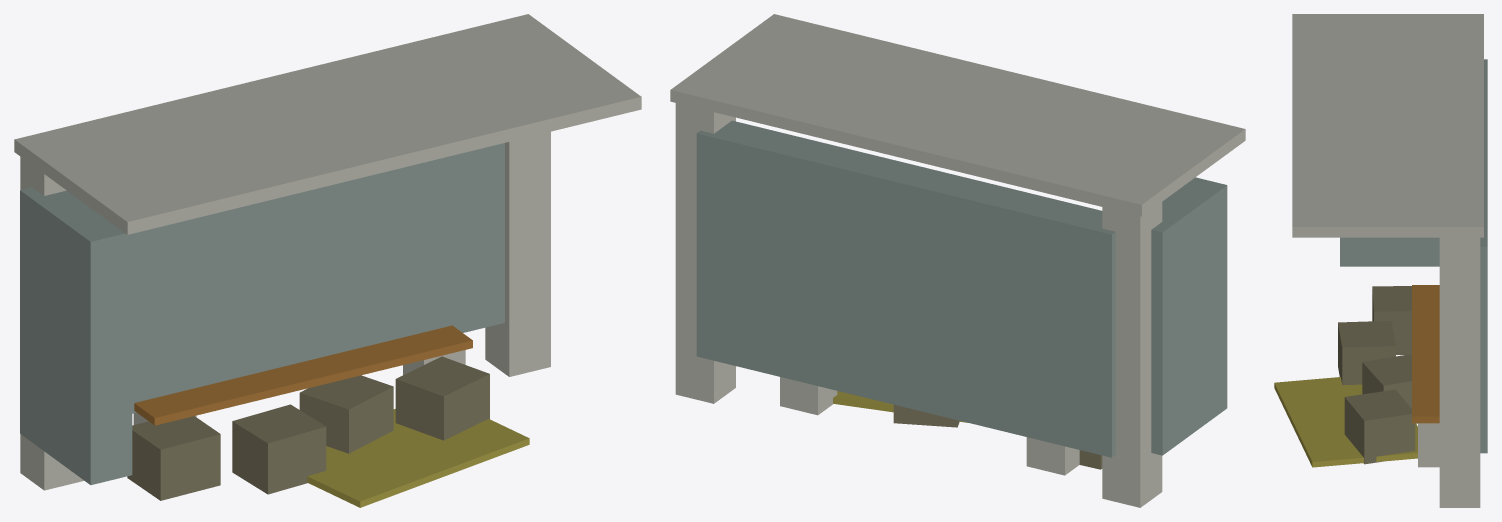
Rendered from SM_ParadaBus_v3_Refugio_LOD1.fbx.
The picture shows the model from 3 angles, left to right: view 1: azimuth 30°, elevation 25°; view 2: azimuth 150°, elevation 25°; view 3: azimuth 270°, elevation 25°; orthographic projection. The views are drawn at different scales.
Visible parts, largest first — view 1: SM_urbano_extra_v8_LOD1; view 2: SM_urbano_extra_v8_LOD1; view 3: SM_urbano_extra_v8_LOD1.
Boxes of the visible parts, box(x1,y1,x2,y2) form: SM_urbano_extra_v8_LOD1: box(14, 14, 641, 507); SM_urbano_extra_v8_LOD1: box(670, 14, 1245, 507); SM_urbano_extra_v8_LOD1: box(1274, 14, 1487, 507).
Bounding box in the file's own units: 4.27 × 2.6 × 1.78.
